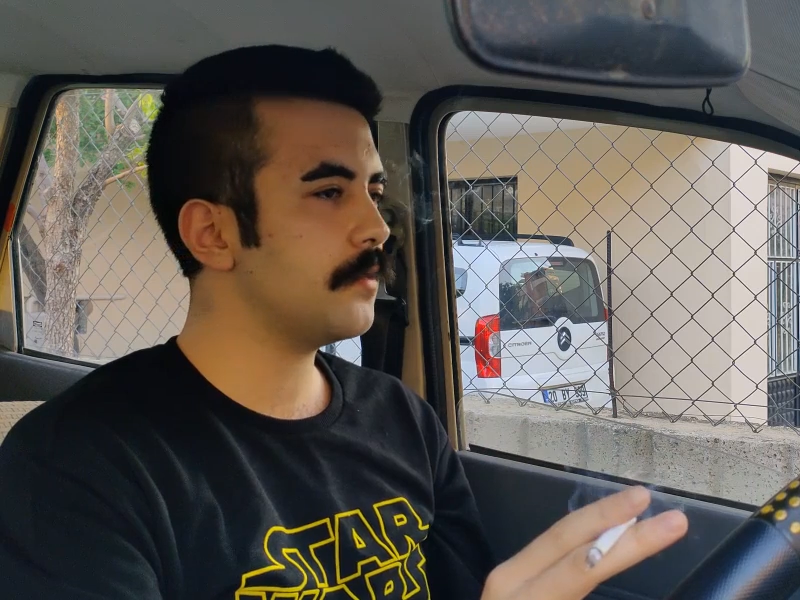sigara: (582, 513, 639, 572)
